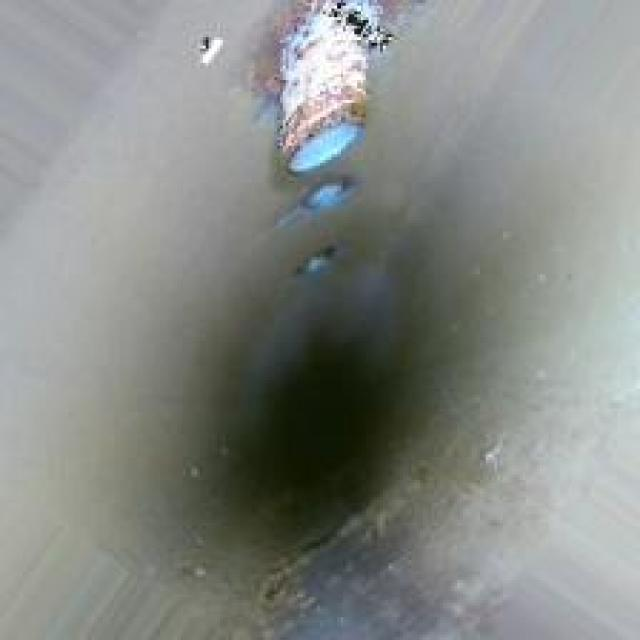ferrule: (266, 0, 377, 166), (297, 174, 366, 212), (286, 234, 348, 274)
